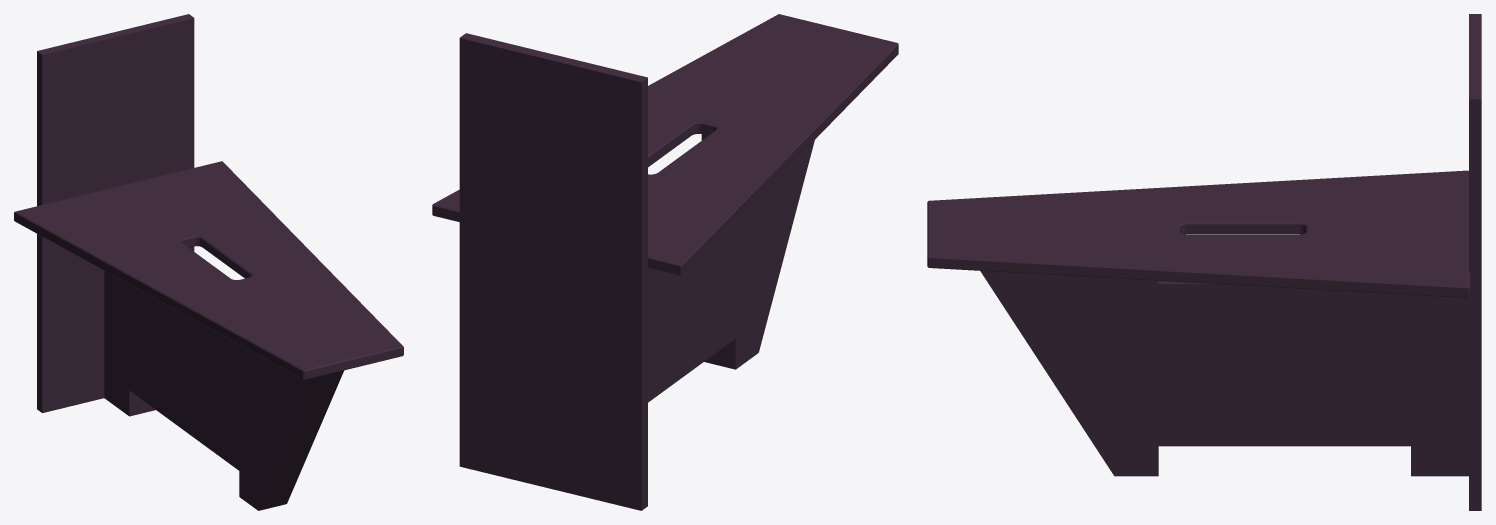
File: table.glb
3 views of the same model, side by side, from view 1: azimuth 30°, elevation 25°; view 2: azimuth 150°, elevation 25°; view 3: azimuth 270°, elevation 25° (orthographic). The views are drawn at different scales.
Parts seen in each view (by area): view 1: Cube.001, Cube.002, Cube; view 2: Cube.002, Cube.001, Cube; view 3: Cube, Cube.001, Cube.002.
Boxes of the visible parts, bbox=[...] form: Cube.001: bbox=[14, 161, 403, 379]; Cube.002: bbox=[37, 14, 194, 412]; Cube: bbox=[104, 246, 344, 510]; Cube.002: bbox=[459, 33, 647, 510]; Cube.001: bbox=[432, 14, 898, 276]; Cube: bbox=[648, 134, 814, 402]; Cube: bbox=[980, 271, 1468, 476]; Cube.001: bbox=[927, 170, 1469, 298]; Cube.002: bbox=[1469, 14, 1481, 510].
Bounding box in the file's own units: 2.2 × 3.6 × 4.39.
